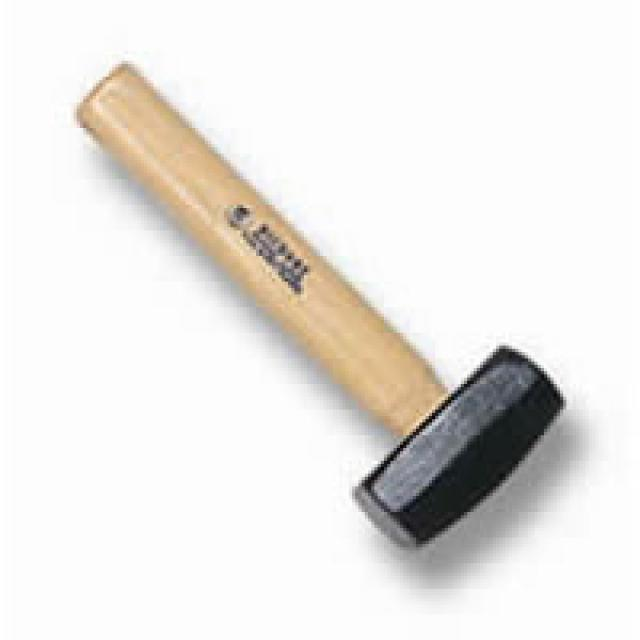hammer: (64, 46, 572, 556)
